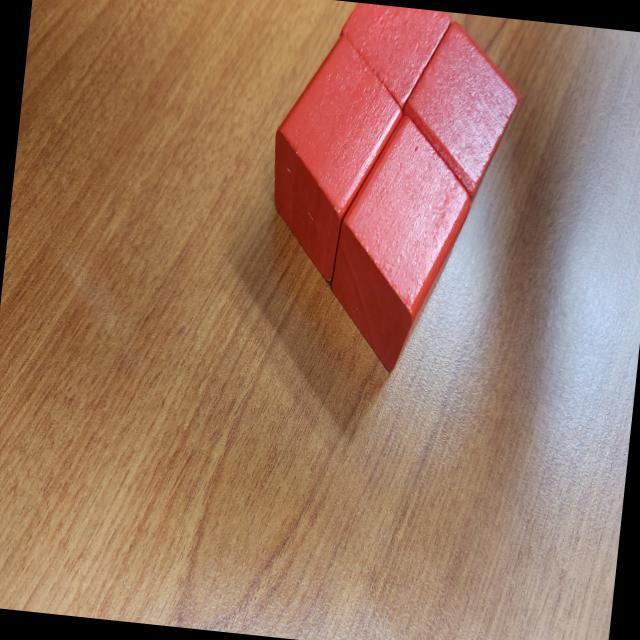red: (323, 109, 480, 380), (260, 28, 411, 290), (394, 17, 529, 204), (332, 0, 452, 114)
